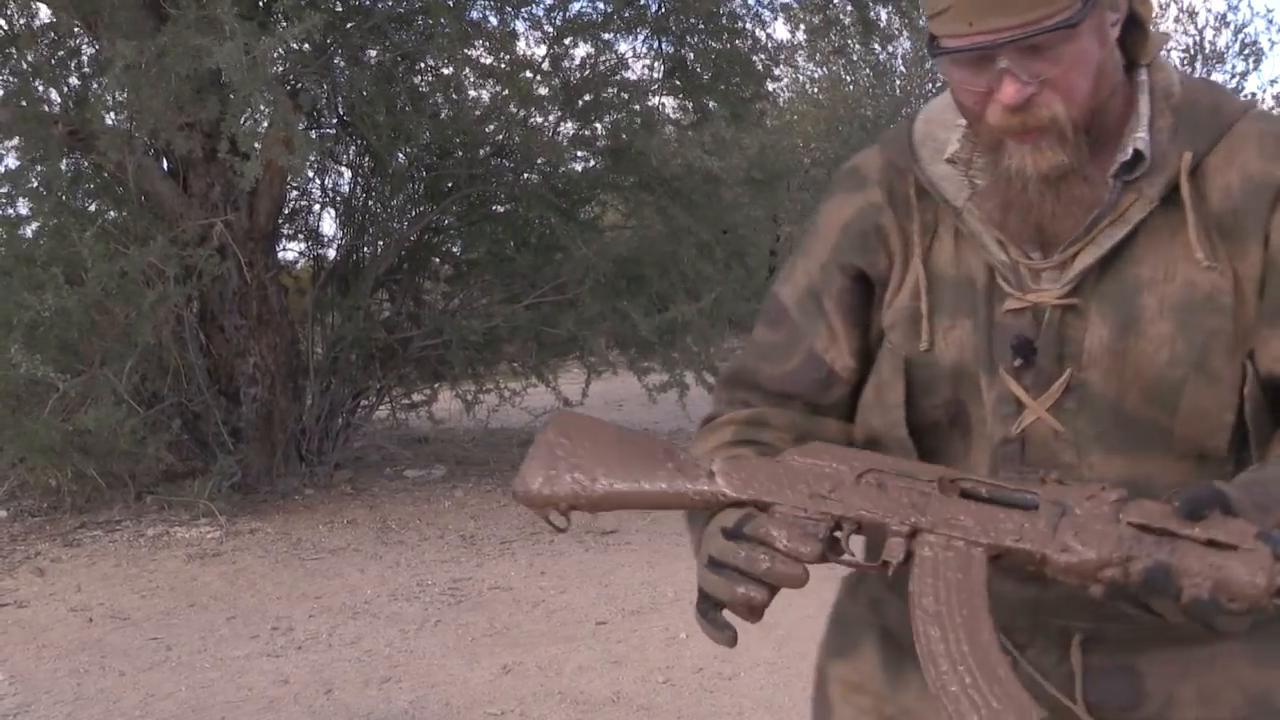AK47 Rifle: (513, 409, 1280, 717)
